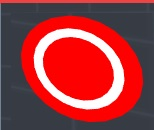Target: (20, 13, 144, 123)
